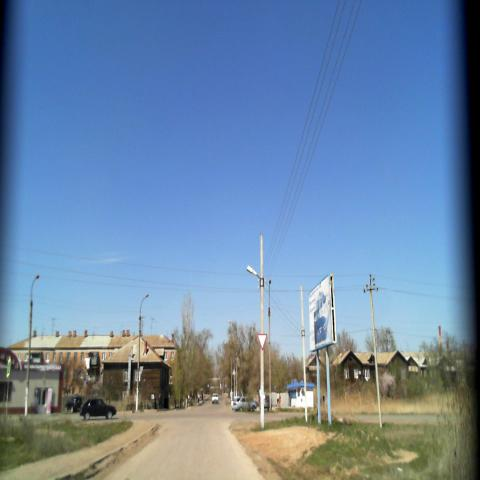2_4: (258, 332, 268, 352)
